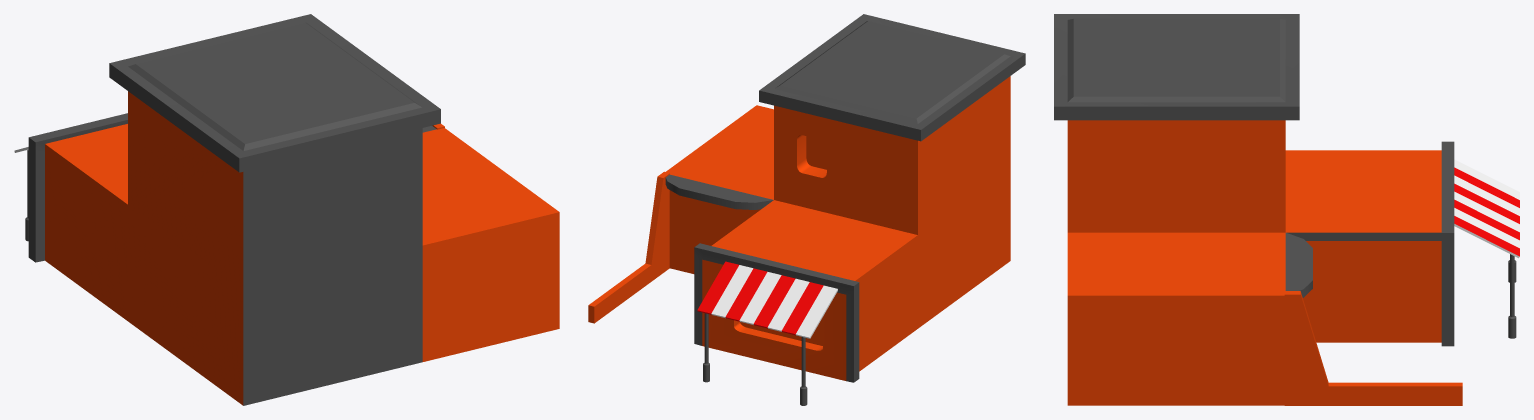
File: Building2.fbx
3 views of the same model, side by side, from view 1: azimuth 30°, elevation 25°; view 2: azimuth 150°, elevation 25°; view 3: azimuth 270°, elevation 25° (orthographic). The views are drawn at different scales.
Parts seen in each view (by area): view 1: Cube.017; view 2: Cube.017; view 3: Cube.017.
Boxes of the visible parts, left/top/right/bottom form: Cube.017: left=14, top=14, right=559, bottom=405; Cube.017: left=588, top=14, right=1025, bottom=405; Cube.017: left=1054, top=14, right=1519, bottom=405.
Size of the model in its own units: 582 by 458 by 759.
